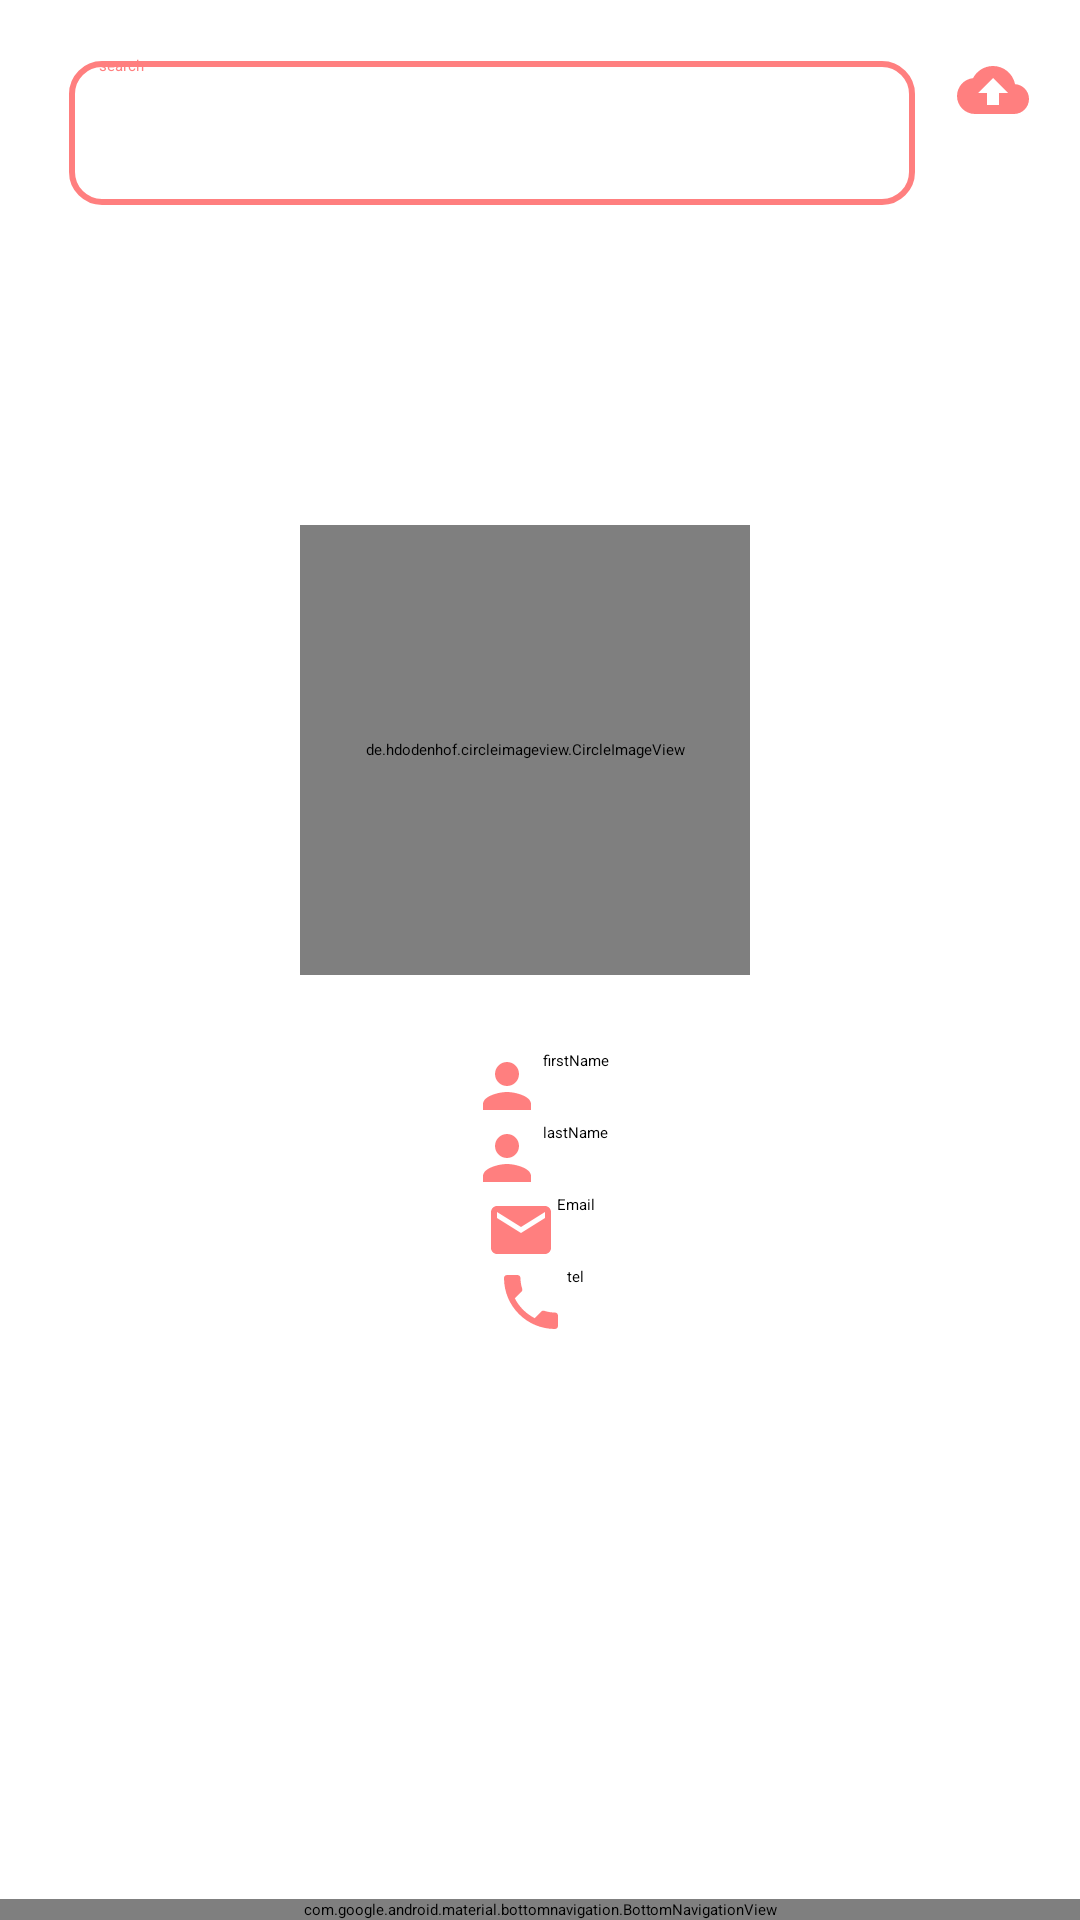

Where to tap for icons on this 1080x1920 app screen, as (x,y):
cloud upload: (993,90)
